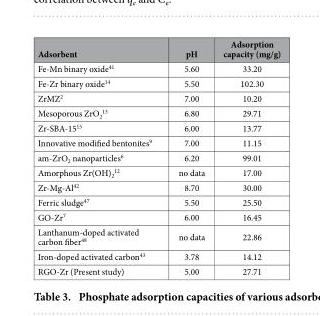table: (36, 37, 280, 277)
table column: (36, 37, 164, 277), (213, 37, 280, 277), (164, 37, 213, 277)
table column header: (36, 37, 280, 60)
table row: (36, 224, 280, 248), (36, 37, 280, 60), (36, 149, 280, 165), (36, 60, 280, 75), (36, 75, 280, 90), (36, 90, 280, 105), (36, 105, 280, 120), (36, 120, 280, 135), (36, 179, 280, 194), (36, 194, 280, 209), (36, 209, 280, 224), (36, 248, 280, 263), (36, 135, 280, 149), (36, 165, 280, 179), (36, 263, 280, 277)
